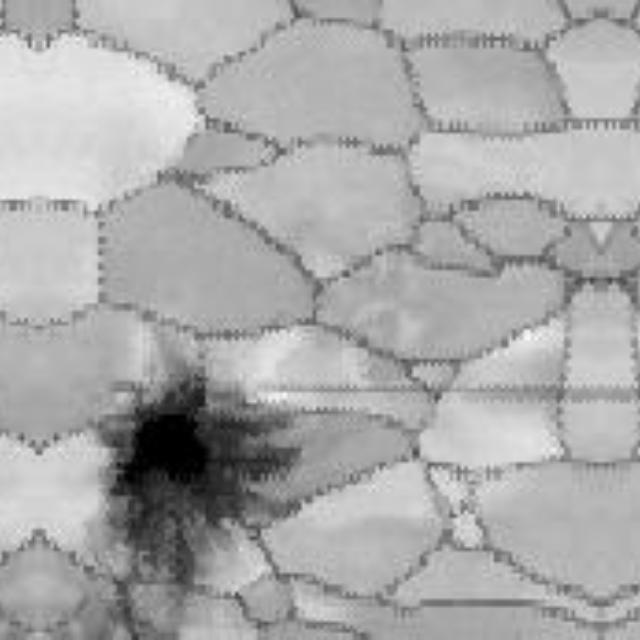good_void: (89, 344, 304, 609)
